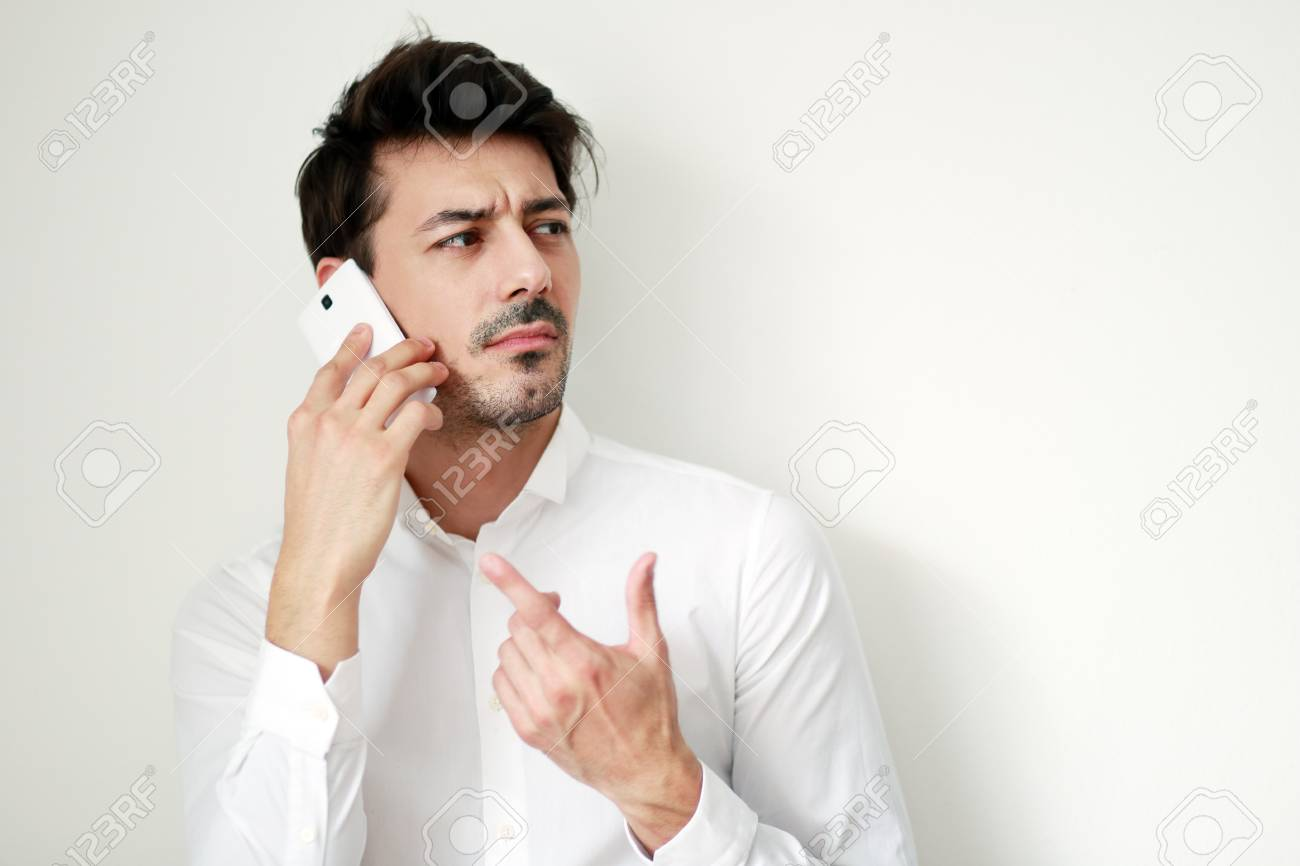phone: (296, 270, 454, 459)
talk: (277, 181, 585, 582)
